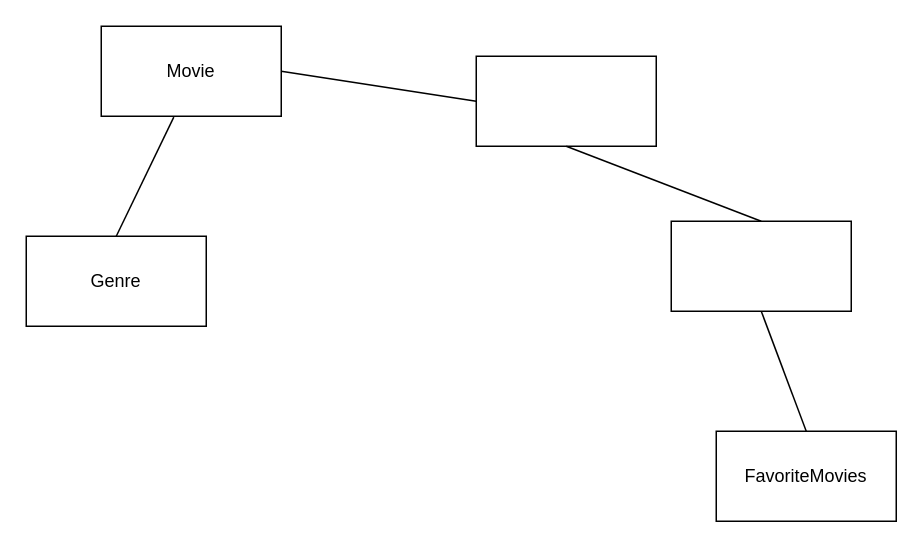
The diagram is 923 pixels wide and 548 high, and some of its shapes have lost their labels. The shapes that lost their labels are listed below. From the top down, each one's box as (x1, y1, x2, y2) in pixels, then its label:
(475, 55, 656, 146): Review
(670, 220, 851, 311): User
